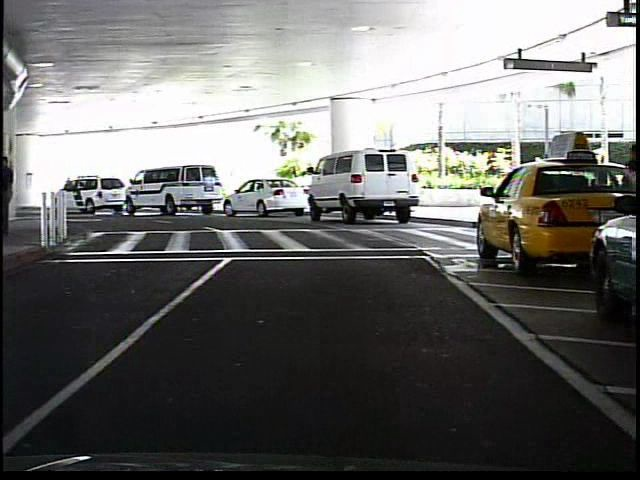person: (6, 150, 22, 232)
